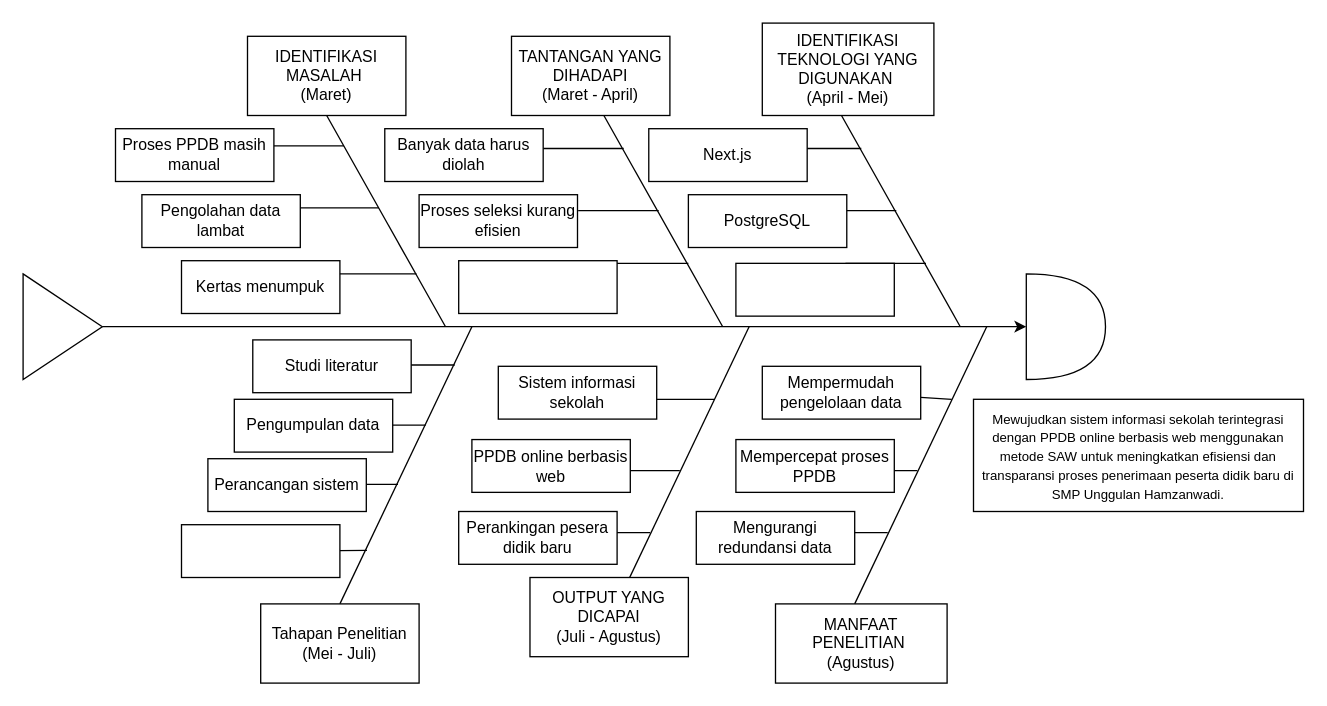
This 1327x706 diagram has some shape labels left out. Each missing label, with the box of its shape:
Hasil Akhir: (1025, 273, 1106, 380)
Metode SAW: (735, 262, 894, 316)
Pengujian sistem: (180, 523, 340, 578)
Transparansi masih rendah: (457, 259, 617, 314)
